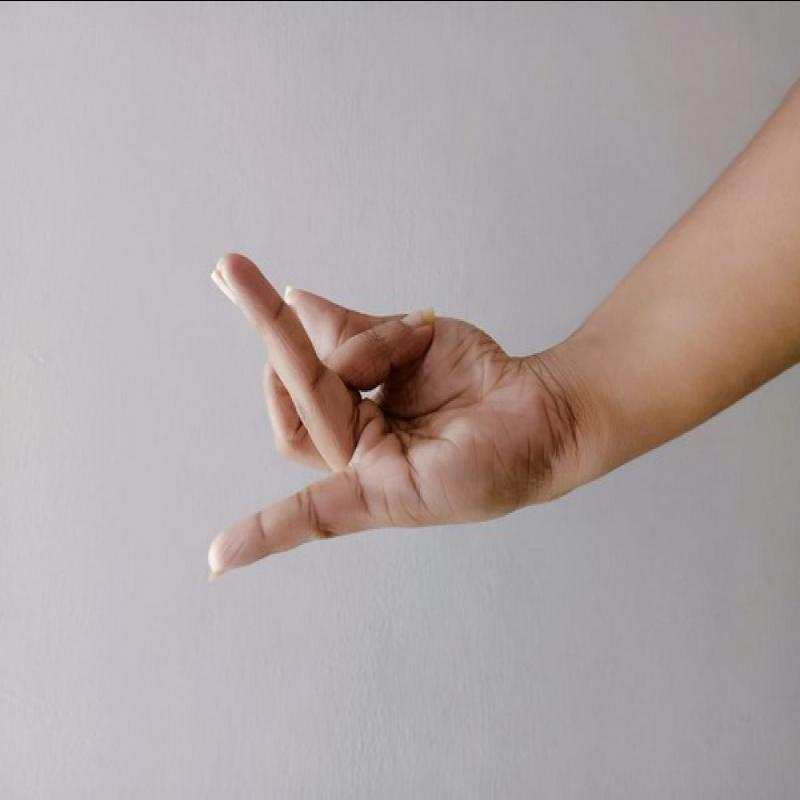Katakam: (134, 208, 563, 614)
